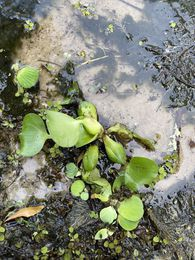water_hyacinth: (9, 61, 168, 235)
